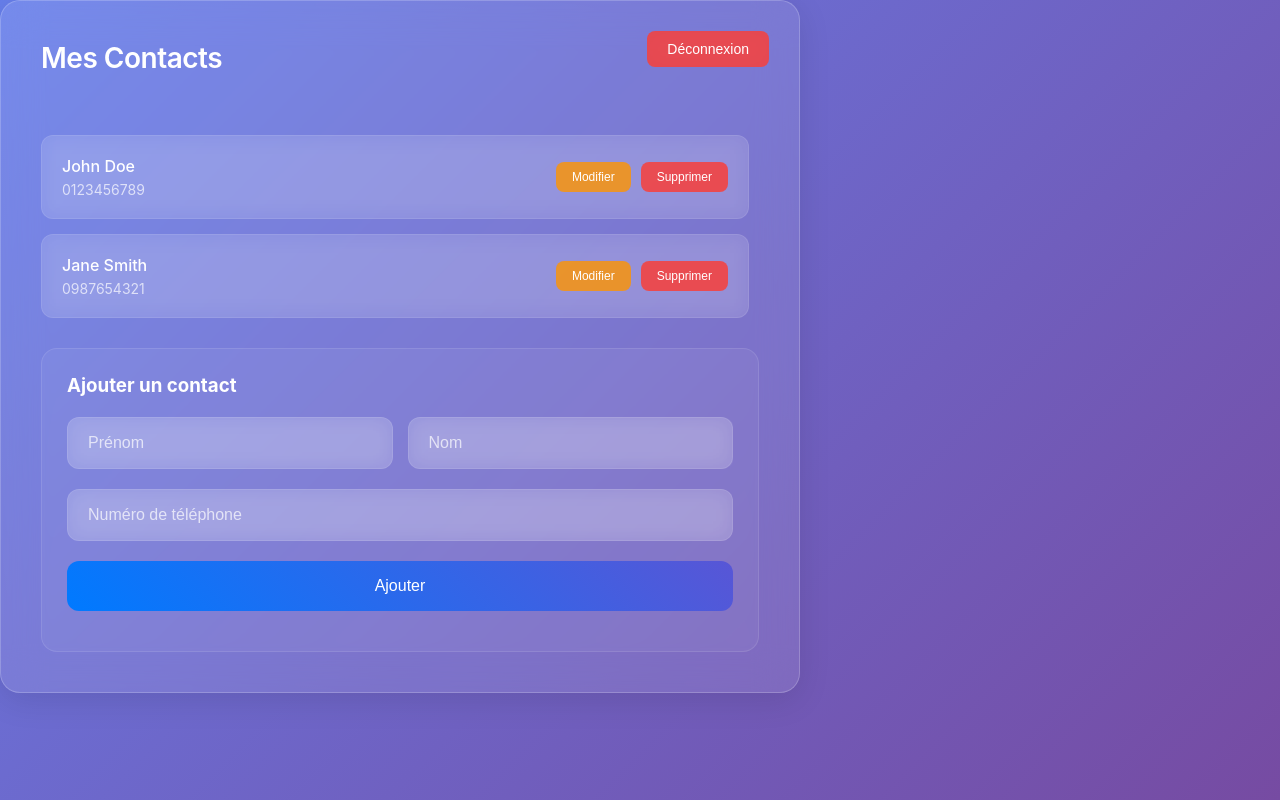
Test: ContactsPage › should handle edit contact
Expected: the text "John Doe" is shown, x1=62 y1=156 x2=145 y2=176
Note: Cliquer sur modifier
Click the button "Modifier" in the row of "0123456789": x=593, y=177 x1=556 y1=162 x2=631 y2=192
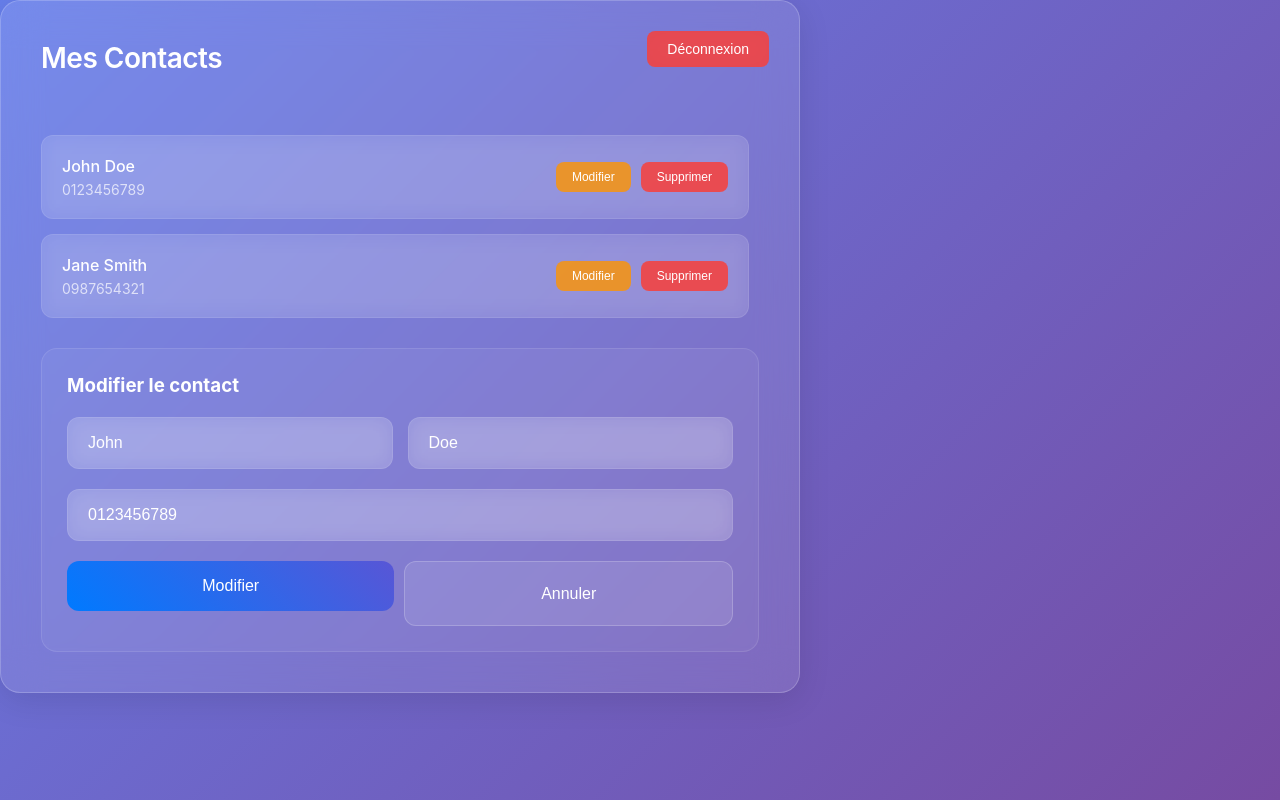
Expected: the 1st field showing "John" is shown, x1=67 y1=417 x2=392 y2=469
Expected: the 2nd field showing "Doe" is shown, x1=408 y1=417 x2=733 y2=469
Expected: the 3rd field showing "0123456789" is shown, x1=67 y1=489 x2=733 y2=541
